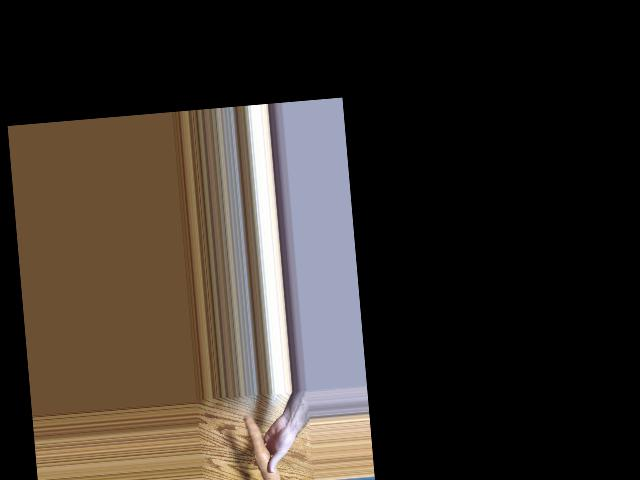sweet_potato: (249, 409, 276, 480)
